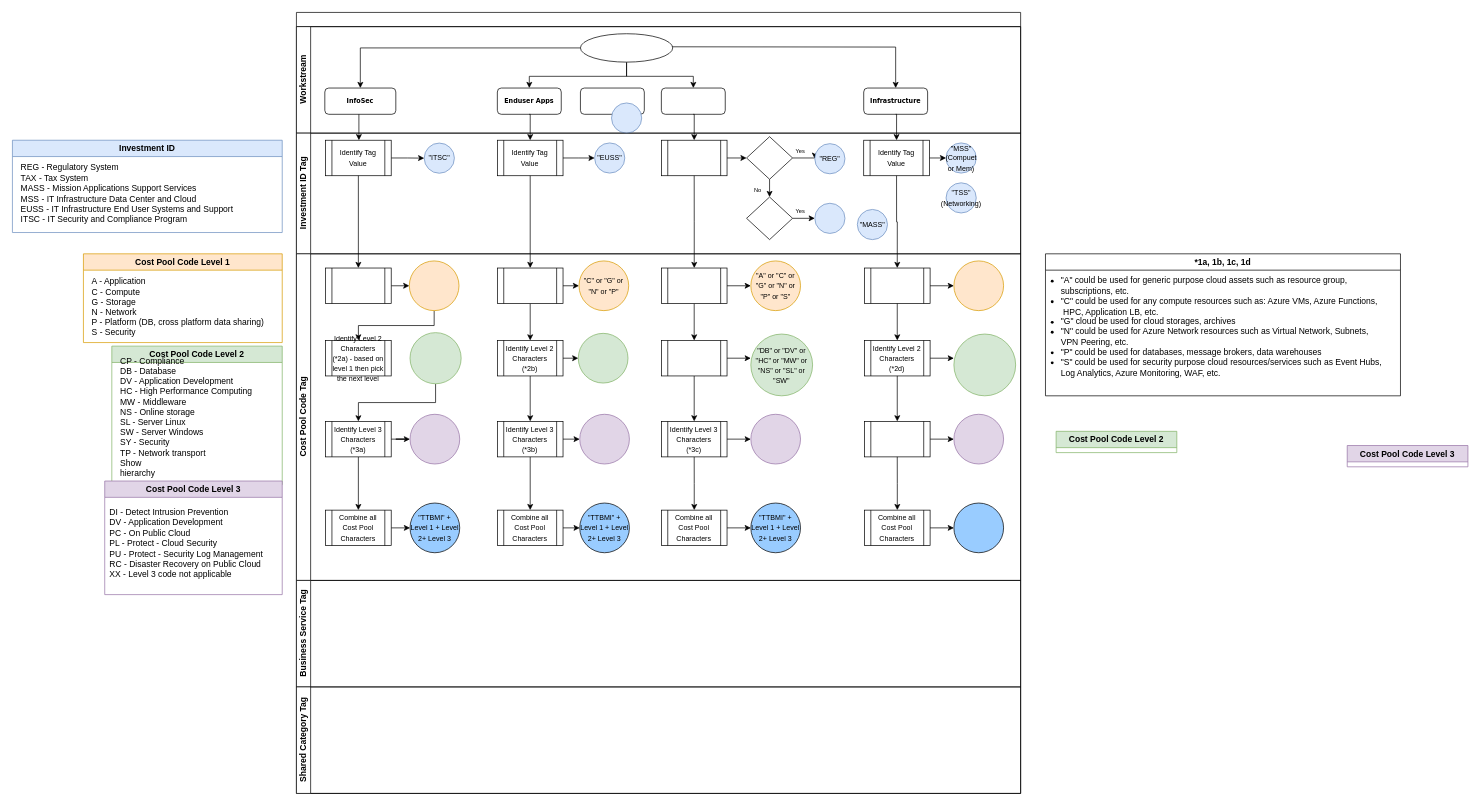
Image size: 1480x806. Some labels were removed from this diagram. The centre of each missing label's shape, as x and y in pixels:
"DV" or "PC" or "RC" or "XX": point (775, 439)
"ITM": point (626, 117)
"PL" or "PU": point (434, 439)
"RC" or "PC": point (604, 439)
"S": point (434, 285)
"SL" or "SW" or "NS" or "DB": point (603, 358)
"SY" or "CP": point (435, 358)
"TAX": point (829, 218)
Identify Level 1 Character (*1a): point (358, 285)
Identify Level 1 Character (*1b): point (530, 285)
Identify Level 1 Character (*1c): point (694, 285)
Identify Level 1 Character (*1d): point (897, 285)
Identify Level 2 Characters (*2c): point (694, 358)
Identify Level 3 Characters (*3d): point (897, 439)
Identify Tag Value (***): point (694, 158)
MissionApps: point (693, 100)
Regulatory System?: point (769, 157)
Service Delivery: point (612, 100)
Start: point (626, 47)
Tax System?: point (769, 218)
